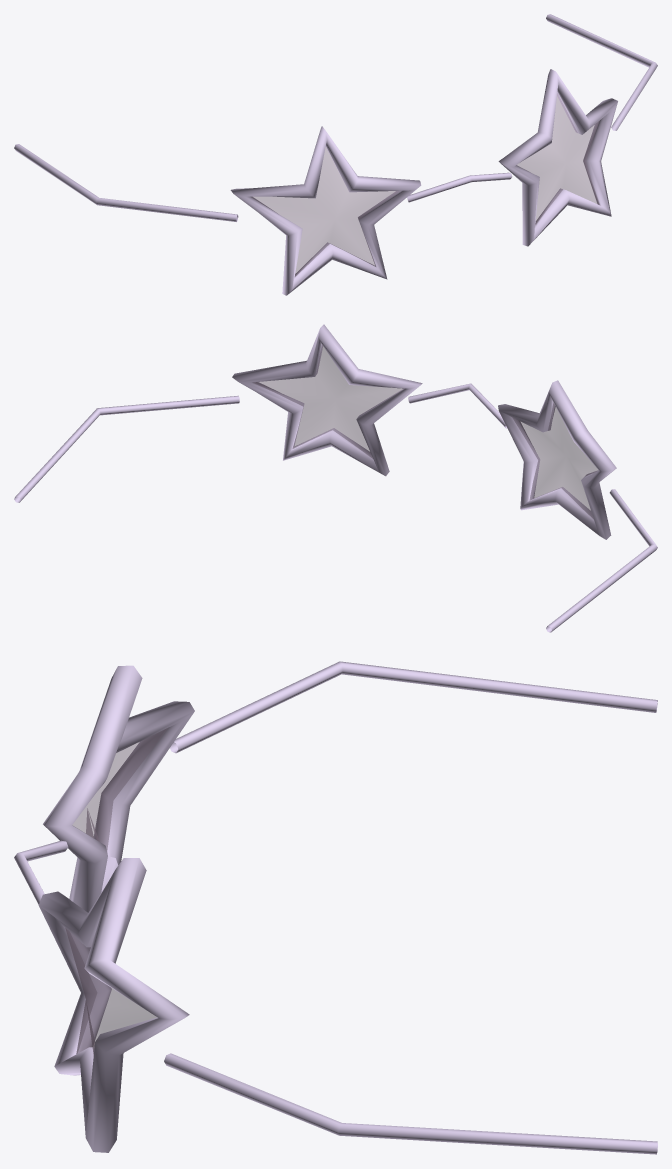
Rendered from glasses_star_pig_tailored.glb.
3 renders of one model, top to bottom at view 1: azimuth 30°, elevation 25°; view 2: azimuth 150°, elevation 25°; view 3: azimuth 270°, elevation 25°, orthographic. The views are drawn at different scales.
Parts seen in each view (by area): view 1: Montura.016, Montura.017, Lente ahumada.010, Lente ahumada.011, Patilla curva.016, Patilla curva.017, Puente nasal.008; view 2: Montura.017, Montura.016, Lente ahumada.011, Lente ahumada.010, Patilla curva.017, Patilla curva.016, Puente nasal.008; view 3: Montura.017, Montura.016, Patilla curva.017, Patilla curva.016, Lente ahumada.011, Lente ahumada.010, Puente nasal.008.
Part boxes in pixels (box(x1,y1,x2,y2)): Montura.016: box(230, 126, 421, 295); Montura.017: box(498, 69, 617, 246); Lente ahumada.010: box(251, 146, 399, 276); Lente ahumada.011: box(516, 93, 599, 224); Patilla curva.016: box(14, 144, 238, 221); Patilla curva.017: box(546, 14, 657, 130); Puente nasal.008: box(407, 172, 512, 202); Montura.017: box(232, 324, 422, 476); Montura.016: box(498, 380, 616, 539); Lente ahumada.011: box(252, 345, 403, 458); Lente ahumada.010: box(513, 403, 598, 518); Patilla curva.017: box(14, 395, 239, 502); Patilla curva.016: box(546, 489, 657, 632); Puente nasal.008: box(408, 383, 506, 428); Montura.017: box(38, 858, 189, 1152); Montura.016: box(43, 665, 194, 912); Patilla curva.017: box(164, 1053, 657, 1154); Patilla curva.016: box(170, 661, 657, 753); Lente ahumada.011: box(65, 928, 156, 1054); Lente ahumada.010: box(72, 728, 167, 851); Puente nasal.008: box(14, 840, 68, 904).
Size of the model in its own units: 0.8373 by 0.2156 by 0.4883.
